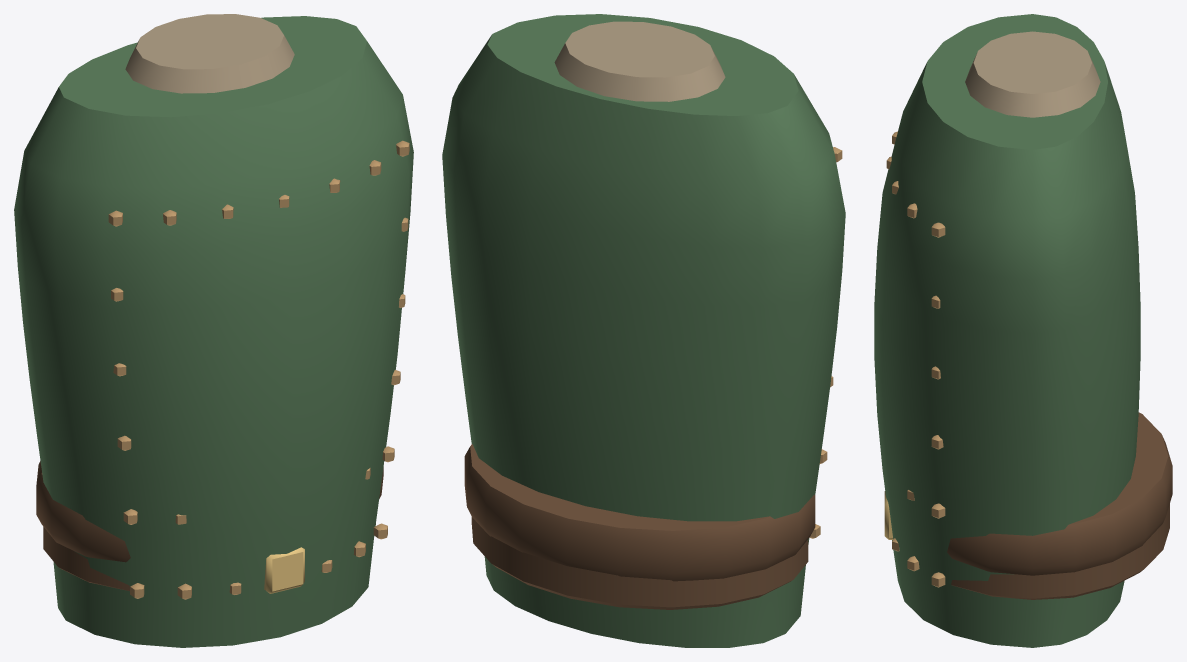
File: tc_livingwood_leathers.glb
3 views of the same model, side by side, from view 1: azimuth 30°, elevation 25°; view 2: azimuth 150°, elevation 25°; view 3: azimuth 270°, elevation 25° (orthographic). The views are drawn at different scales.
Parts seen in each view (by area): view 1: tc_livingwood_leathers; view 2: tc_livingwood_leathers; view 3: tc_livingwood_leathers.
Boxes of the visible parts, <box> form: tc_livingwood_leathers: <box>14,14,413,647</box>; tc_livingwood_leathers: <box>442,14,845,647</box>; tc_livingwood_leathers: <box>874,14,1172,647</box>.
Bounding box in the file's own units: 0.3922 × 0.54 × 0.2817.
